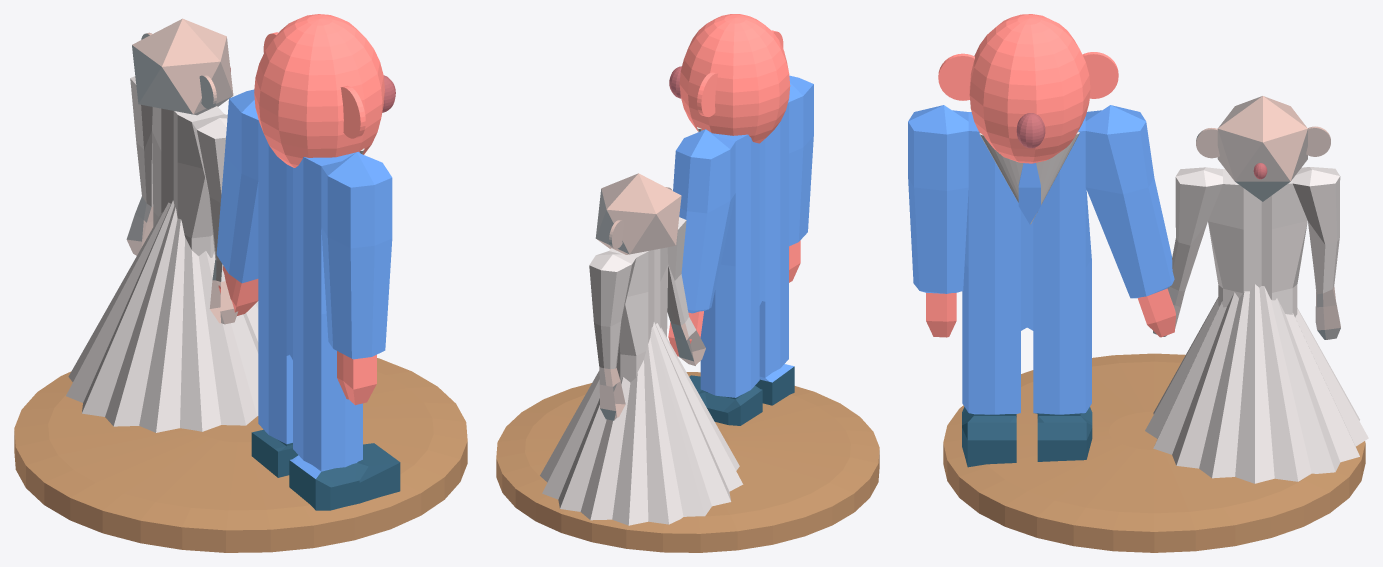
File: cake topper.fbx
3 views of the same model, side by side, from view 1: azimuth 30°, elevation 25°; view 2: azimuth 150°, elevation 25°; view 3: azimuth 270°, elevation 25° (orthographic). The views are drawn at different scales.
Parts seen in each view (by area): view 1: Cylinder, Cube, Cone.001, Cube.001, Sphere, Cube.004, Icosphere, Cube.003, Cylinder.002; view 2: Cylinder, Cone.001, Cube.001, Cube, Sphere, Cube.003, Icosphere, Cube.004, Cylinder.001; view 3: Cylinder, Cube.001, Cube, Cone.001, Sphere, Cube.003, Cube.004, Icosphere, Cone, Cylinder.002, Cylinder.001, Cube.002 (+3 smaller).
Part boxes in pixels (left/top/right/bottom): Cylinder: left=14, top=358, right=467, bottom=552; Cube: left=286, top=151, right=400, bottom=510; Cone.001: left=66, top=200, right=258, bottom=432; Cube.001: left=216, top=89, right=298, bottom=477; Sphere: left=254, top=14, right=384, bottom=167; Cube.004: left=173, top=106, right=238, bottom=324; Icosphere: left=132, top=18, right=233, bottom=115; Cube.003: left=126, top=76, right=186, bottom=255; Cylinder.002: left=340, top=85, right=365, bottom=138; Cylinder: left=496, top=372, right=879, bottom=552; Cone.001: left=540, top=322, right=743, bottom=525; Cube.001: left=668, top=129, right=765, bottom=425; Cube: left=755, top=75, right=813, bottom=405; Sphere: left=679, top=14, right=790, bottom=143; Cube.003: left=589, top=248, right=654, bottom=420; Icosphere: left=595, top=173, right=681, bottom=254; Cube.004: left=654, top=217, right=705, bottom=365; Cylinder.001: left=697, top=72, right=717, bottom=116; Cylinder: left=943, top=353, right=1365, bottom=552; Cube.001: left=1021, top=105, right=1175, bottom=461; Cube: left=908, top=105, right=1033, bottom=467; Cone.001: left=1145, top=284, right=1368, bottom=483; Sphere: left=969, top=14, right=1090, bottom=163; Cube.003: left=1261, top=167, right=1340, bottom=339; Cube.004: left=1153, top=167, right=1261, bottom=336; Icosphere: left=1217, top=96, right=1307, bottom=201; Cone: left=979, top=131, right=1079, bottom=224; Cylinder.002: left=938, top=53, right=974, bottom=100; Cylinder.001: left=1082, top=52, right=1118, bottom=98; Cube.002: left=1018, top=163, right=1040, bottom=224.
Bounding box in the file's own units: 218 × 200 × 235.
